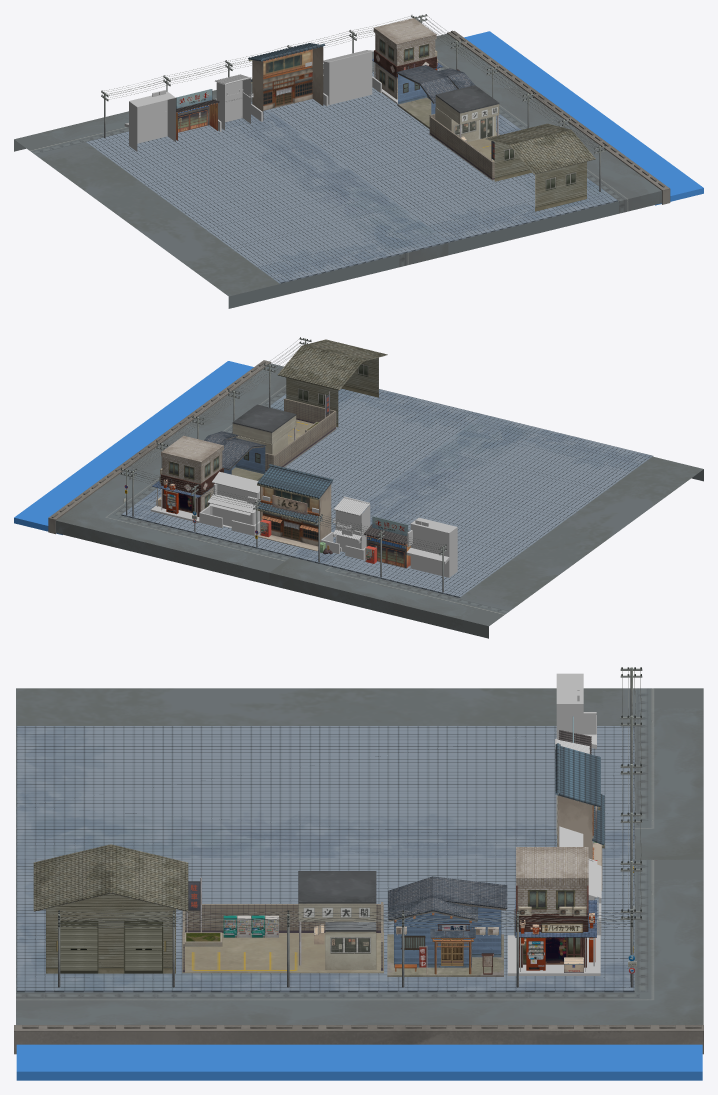
Rendered from home sea02.fbx.
3 renders of one model, top to bottom at view 1: azimuth 30°, elevation 25°; view 2: azimuth 150°, elevation 25°; view 3: azimuth 270°, elevation 25°, orthographic. The views are drawn at different scales.
Visible parts, largest first — view 1: Cube.167, Cube.001, Cube.168, Cube.009, Cube.002, Cube.159, Cube.101, Cube.026, Cube.162, Cube.154, Cube.035, Cube.041 (+10 smaller); view 2: Cube.167, Cube.168, Cube.001, Cube.009, Cube.002, Cube.101, Cube.159, Cube.162, Cube.026, Cube.154, Cube.035, Cube.041 (+10 smaller); view 3: Cube.167, Cube.168, Cube.009, Cube.001, Cube.002, Cube.041, Cube.026, Cube.101, Cube.036, Cube.035, Cube.027, Cube.017 (+16 smaller).
Part boxes in pixels (x1,y1,x2,y2): Cube.167: [86, 101, 448, 283]; Cube.001: [268, 68, 617, 242]; Cube.168: [14, 90, 448, 308]; Cube.009: [251, 34, 661, 255]; Cube.002: [464, 31, 703, 205]; Cube.159: [252, 47, 323, 120]; Cube.101: [486, 123, 595, 174]; Cube.026: [494, 142, 586, 211]; Cube.162: [323, 50, 373, 104]; Cube.154: [129, 91, 175, 151]; Cube.035: [435, 85, 499, 124]; Cube.041: [447, 31, 670, 204]; Cube.167: [291, 414, 653, 597]; Cube.168: [269, 456, 703, 638]; Cube.001: [121, 388, 483, 556]; Cube.009: [56, 363, 290, 584]; Cube.002: [14, 361, 253, 534]; Cube.101: [277, 339, 387, 390]; Cube.159: [257, 484, 331, 551]; Cube.162: [207, 471, 259, 528]; Cube.026: [286, 357, 378, 427]; Cube.154: [410, 517, 457, 577]; Cube.035: [232, 404, 296, 443]; Cube.041: [48, 360, 271, 534]; Cube.167: [16, 726, 634, 857]; Cube.168: [16, 688, 703, 859]; Cube.009: [16, 859, 703, 1024]; Cube.001: [16, 858, 634, 992]; Cube.002: [16, 1044, 702, 1080]; Cube.041: [14, 1025, 703, 1054]; Cube.026: [46, 894, 175, 973]; Cube.101: [33, 844, 188, 911]; Cube.036: [182, 932, 383, 973]; Cube.035: [298, 871, 376, 921]; Cube.027: [394, 913, 471, 967]; Cube.017: [516, 847, 588, 885].
Size of the model in its own units: 3671 by 575 by 2883.
